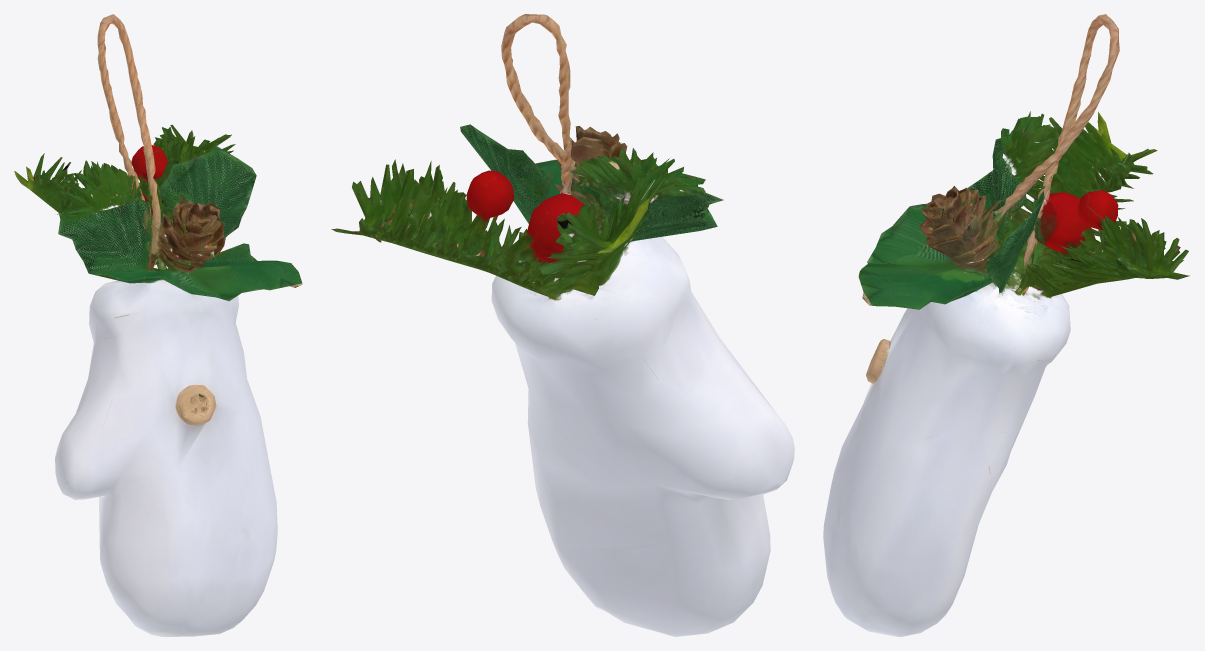
The model's file is Fluffy_Mitten.glb.
3 views of the same model, side by side, from view 1: azimuth 30°, elevation 25°; view 2: azimuth 150°, elevation 25°; view 3: azimuth 270°, elevation 25° (orthographic). The views are drawn at different scales.
Visible parts, largest first — view 1: Mesh1.0; view 2: Mesh1.0; view 3: Mesh1.0.
Boxes of the visible parts, <box> form: Mesh1.0: <box>14,14,302,636</box>; Mesh1.0: <box>331,14,794,636</box>; Mesh1.0: <box>823,14,1189,636</box>.
Size of the model in its own units: 0.084 by 0.1719 by 0.0931.
Materials: 1 (1 with a texture image).
